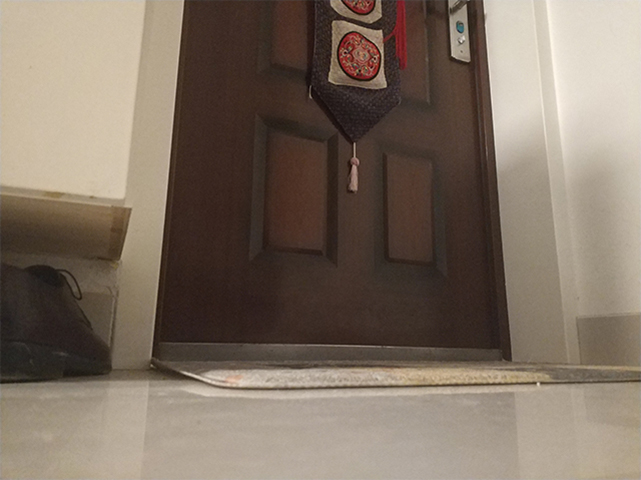carpet: (148, 354, 641, 391)
